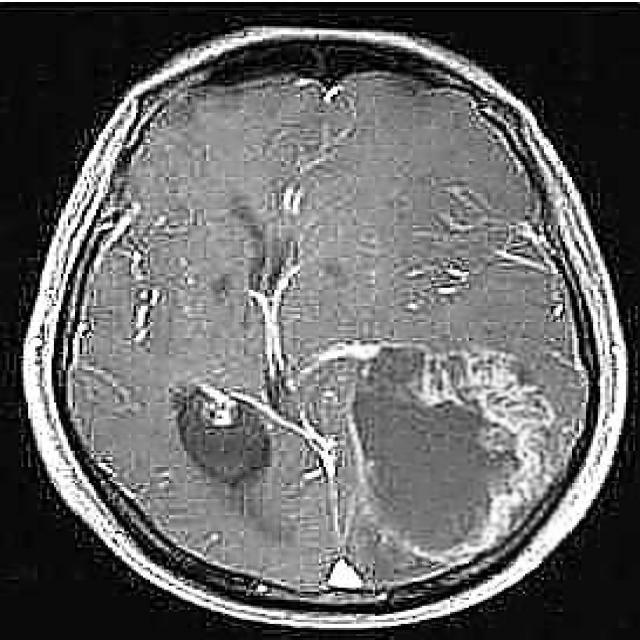Tumor: (347, 342, 571, 561), (180, 385, 266, 477)
